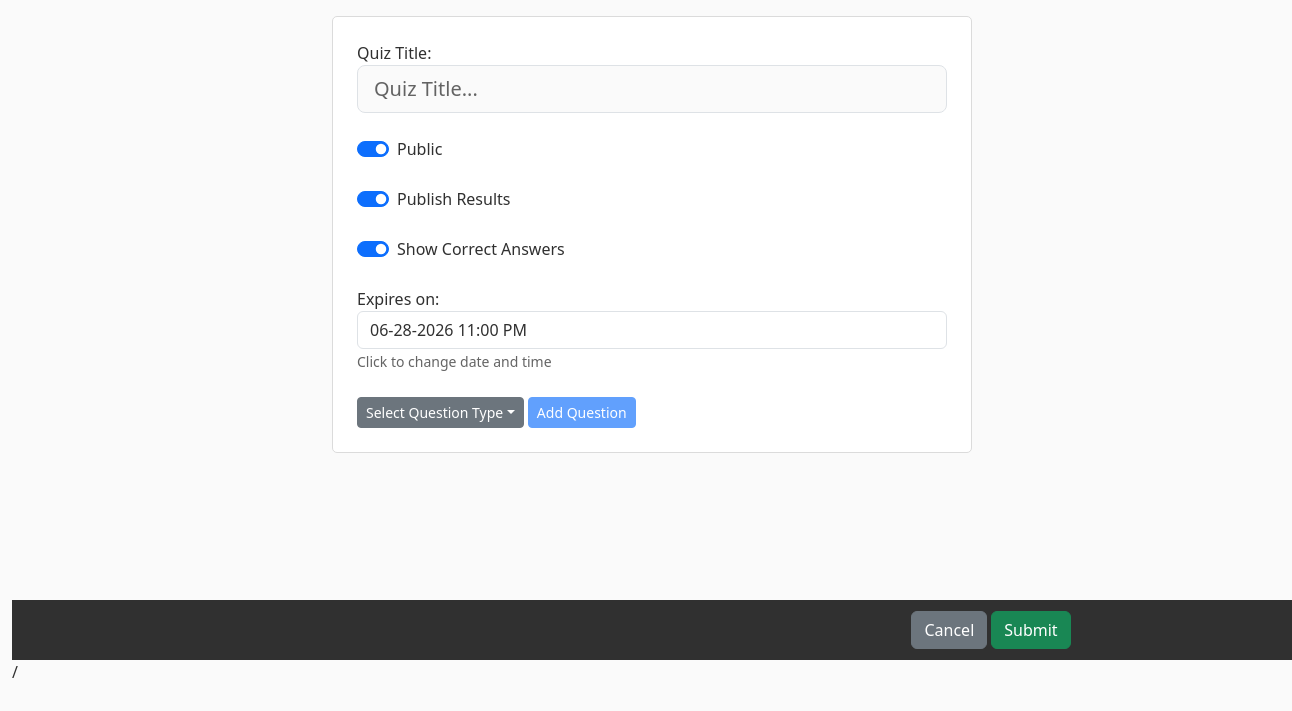
Test: QuizEditorForm › adds an answer to a MultipleChoice question when clicking "Add Answer"
What coordinates should you click on to do the following:
click the button "Select Question Type"
I would click on:
 (440, 412)
Its box is [357,397,524,428].
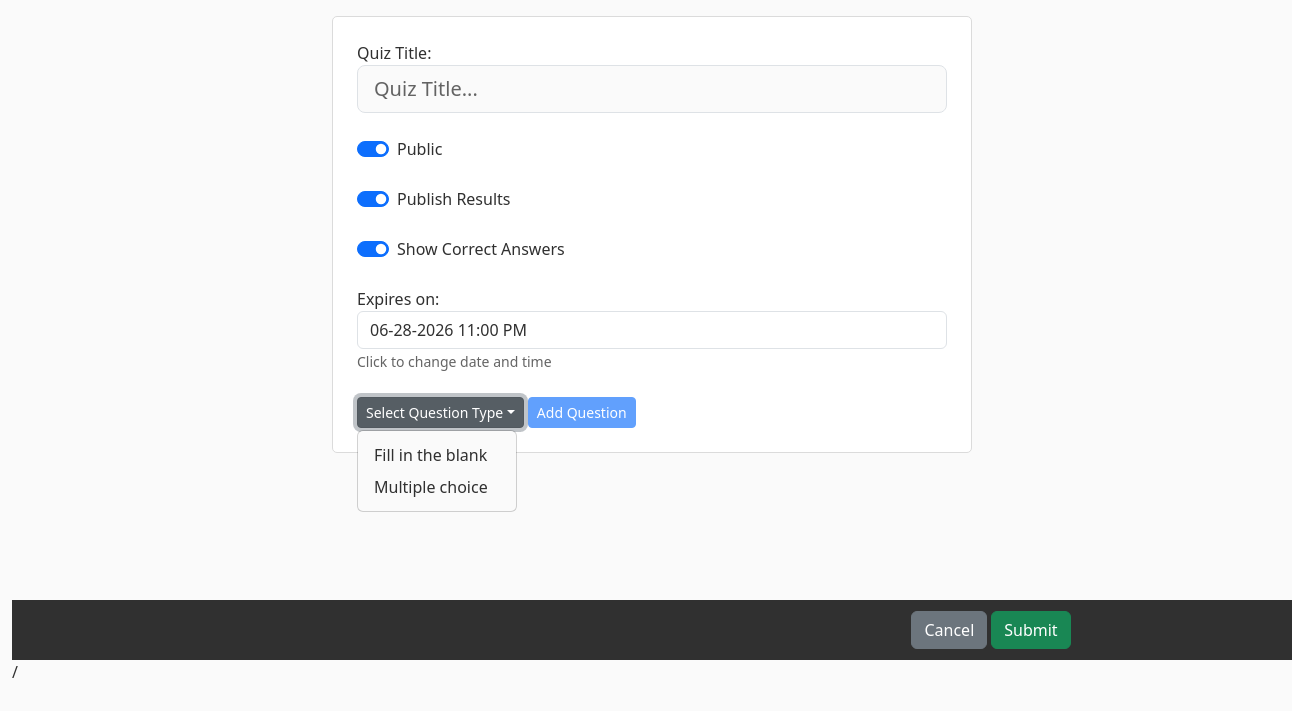
What coordinates should you click on to do the following:
click the button "Multiple choice"
I would click on:
 (431, 487)
Its box is [374,476,488,498].
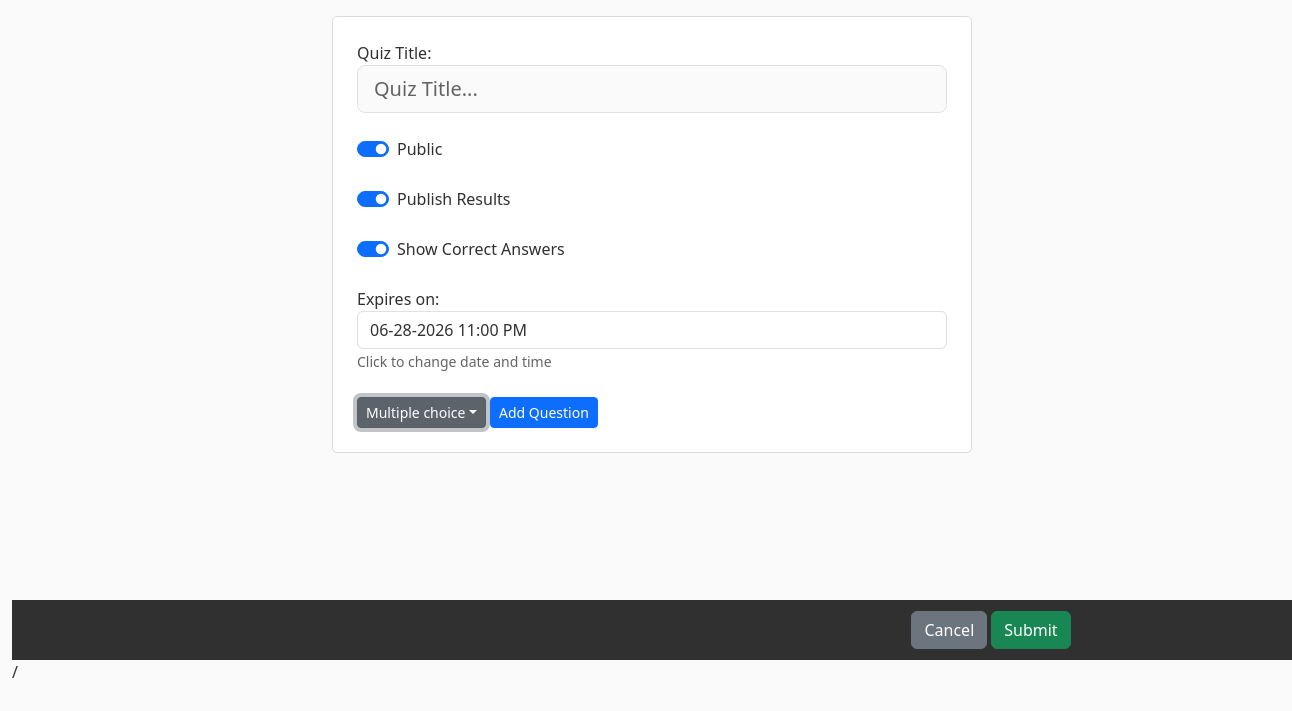
What coordinates should you click on to do the following:
click the button "Add Question"
I would click on:
 (544, 412)
Its box is [490,397,598,428].
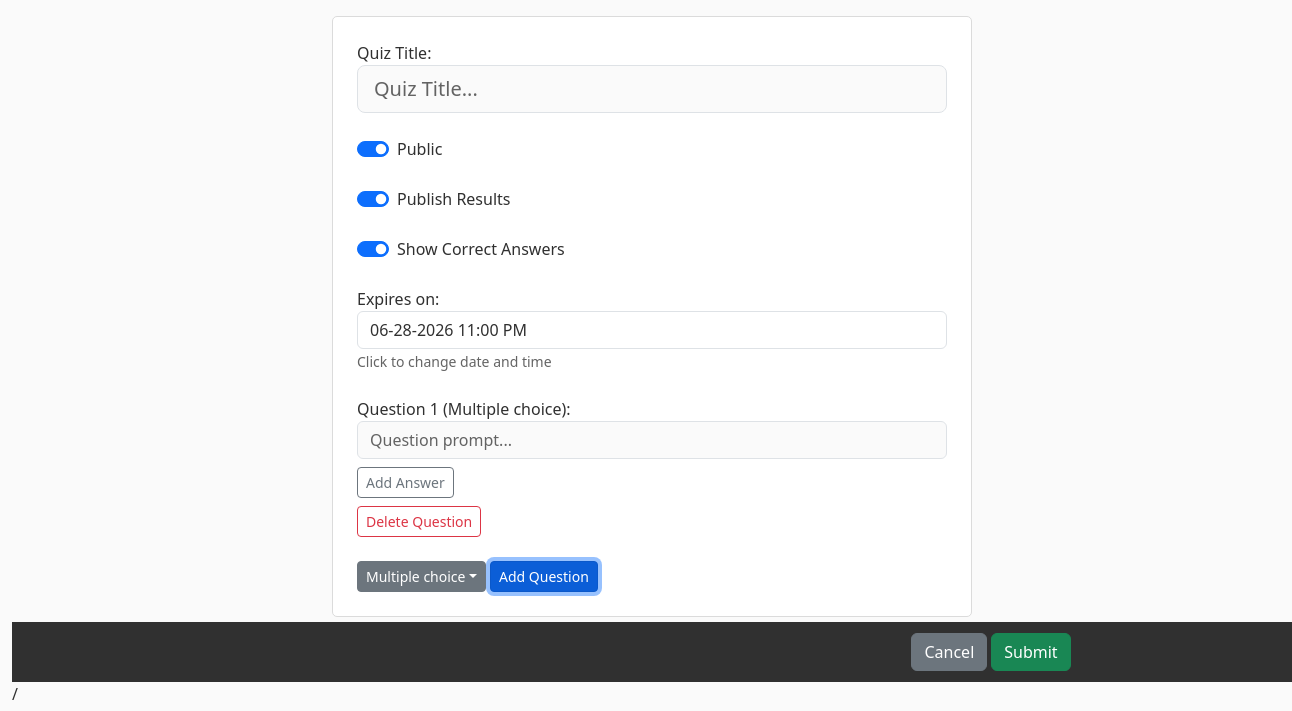
What coordinates should you click on to do the following:
click the button "Add Answer"
I would click on:
 (405, 482)
Its box is [357,467,454,498].
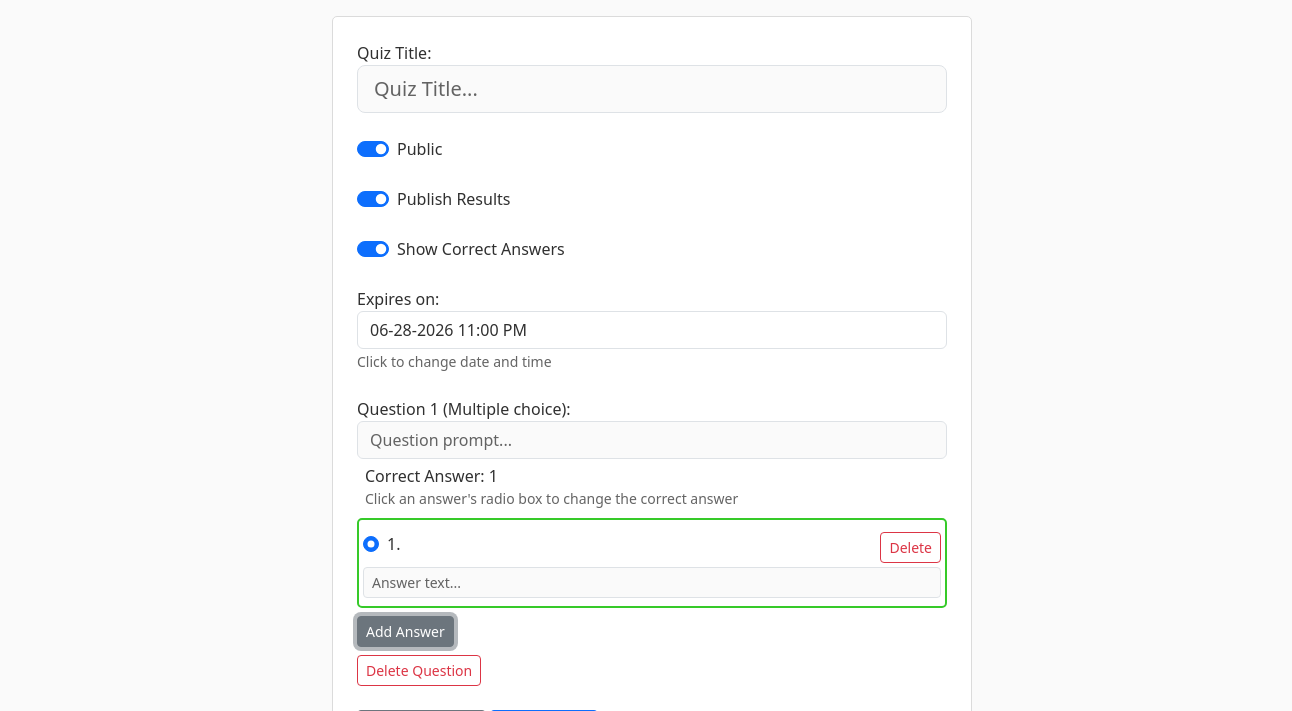
Expected: the field with placeholder "Answer text..." is shown, [363,567,941,598]
